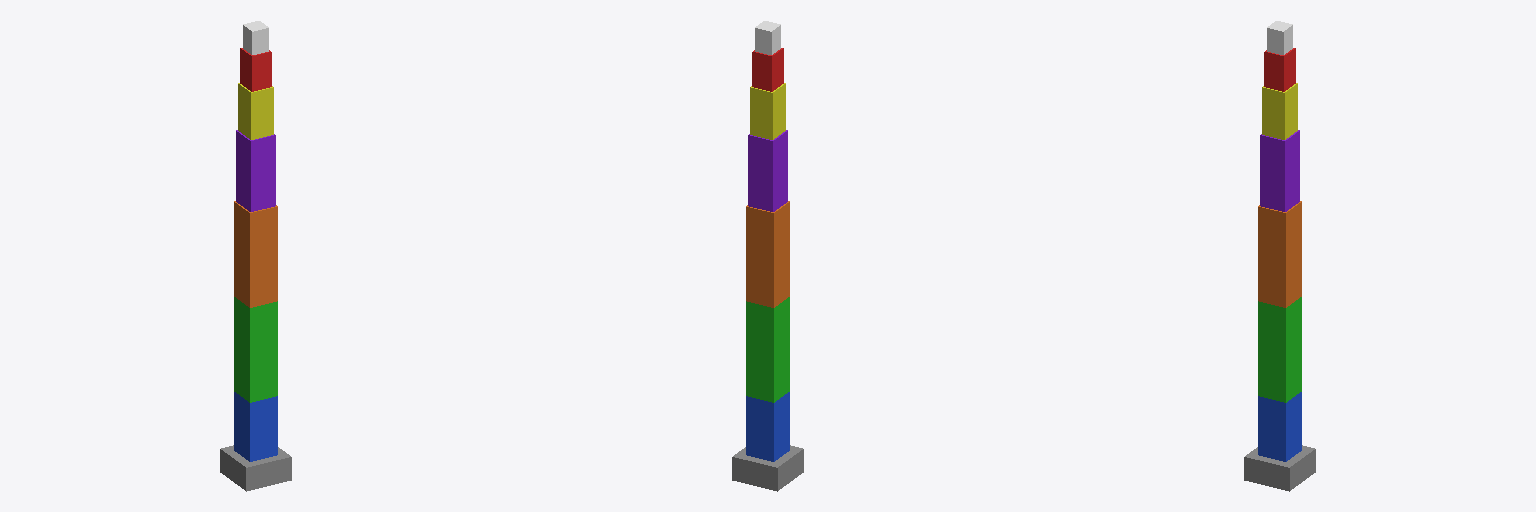
robot.urdf — piper_six_dof:
<?xml version="1.0"?>
<robot name="piper_six_dof">
  <!-- Minimal 6-DoF arm with simple box links for IK and collision -->
  <link name="base_link">
    <inertial><origin xyz="0 0 0" rpy="0 0 0"/><mass value="1"/><inertia ixx="1e-3" ixy="0" ixz="0" iyy="1e-3" iyz="0" izz="1e-3"/></inertial>
    <visual><origin xyz="0 0 0" rpy="0 0 0"/><geometry><box size="0.08 0.08 0.04"/></geometry><material name="gray"><color rgba="0.6 0.6 0.6 1"/></material></visual>
    <collision><origin xyz="0 0 0" rpy="0 0 0"/><geometry><box size="0.08 0.08 0.04"/></geometry></collision>
  </link>

  <link name="link1">
    <inertial><origin xyz="0 0 0.05" rpy="0 0 0"/><mass value="1"/><inertia ixx="1e-3" ixy="0" ixz="0" iyy="1e-3" iyz="0" izz="1e-3"/></inertial>
    <visual><origin xyz="0 0 0.05" rpy="0 0 0"/><geometry><box size="0.05 0.05 0.1"/></geometry><material name="blue"><color rgba="0.2 0.4 0.9 1"/></material></visual>
    <collision><origin xyz="0 0 0.05" rpy="0 0 0"/><geometry><box size="0.05 0.05 0.1"/></geometry></collision>
  </link>
  <joint name="joint1" type="revolute">
    <parent link="base_link"/>
    <child link="link1"/>
    <origin xyz="0 0 0.02" rpy="0 0 0"/>
    <axis xyz="0 0 1"/>
    <limit lower="-3.14" upper="3.14" effort="10" velocity="2.0"/>
  </joint>

  <link name="link2">
    <inertial><origin xyz="0 0 0.08" rpy="0 0 0"/><mass value="1"/><inertia ixx="1e-3" ixy="0" ixz="0" iyy="1e-3" iyz="0" izz="1e-3"/></inertial>
    <visual><origin xyz="0 0 0.08" rpy="0 0 0"/><geometry><box size="0.05 0.05 0.16"/></geometry><material name="green"><color rgba="0.2 0.8 0.2 1"/></material></visual>
    <collision><origin xyz="0 0 0.08" rpy="0 0 0"/><geometry><box size="0.05 0.05 0.16"/></geometry></collision>
  </link>
  <joint name="joint2" type="revolute">
    <parent link="link1"/>
    <child link="link2"/>
    <origin xyz="0 0 0.1" rpy="0 0 0"/>
    <axis xyz="0 1 0"/>
    <limit lower="-2.1" upper="2.1" effort="10" velocity="2.0"/>
  </joint>

  <link name="link3">
    <inertial><origin xyz="0 0 0.08" rpy="0 0 0"/><mass value="1"/><inertia ixx="1e-3" ixy="0" ixz="0" iyy="1e-3" iyz="0" izz="1e-3"/></inertial>
    <visual><origin xyz="0 0 0.08" rpy="0 0 0"/><geometry><box size="0.05 0.05 0.16"/></geometry><material name="orange"><color rgba="0.9 0.5 0.2 1"/></material></visual>
    <collision><origin xyz="0 0 0.08" rpy="0 0 0"/><geometry><box size="0.05 0.05 0.16"/></geometry></collision>
  </link>
  <joint name="joint3" type="revolute">
    <parent link="link2"/>
    <child link="link3"/>
    <origin xyz="0 0 0.16" rpy="0 0 0"/>
    <axis xyz="0 1 0"/>
    <limit lower="-2.8" upper="2.8" effort="10" velocity="2.0"/>
  </joint>

  <link name="link4">
    <inertial><origin xyz="0 0 0.06" rpy="0 0 0"/><mass value="0.6"/><inertia ixx="7e-4" ixy="0" ixz="0" iyy="7e-4" iyz="0" izz="7e-4"/></inertial>
    <visual><origin xyz="0 0 0.06" rpy="0 0 0"/><geometry><box size="0.045 0.045 0.12"/></geometry><material name="purple"><color rgba="0.6 0.2 0.9 1"/></material></visual>
    <collision><origin xyz="0 0 0.06" rpy="0 0 0"/><geometry><box size="0.045 0.045 0.12"/></geometry></collision>
  </link>
  <joint name="joint4" type="revolute">
    <parent link="link3"/>
    <child link="link4"/>
    <origin xyz="0 0 0.16" rpy="0 0 0"/>
    <axis xyz="1 0 0"/>
    <limit lower="-3.14" upper="3.14" effort="10" velocity="2.0"/>
  </joint>

  <link name="link5">
    <inertial><origin xyz="0 0 0.04" rpy="0 0 0"/><mass value="0.5"/><inertia ixx="5e-4" ixy="0" ixz="0" iyy="5e-4" iyz="0" izz="5e-4"/></inertial>
    <visual><origin xyz="0 0 0.04" rpy="0 0 0"/><geometry><box size="0.04 0.04 0.08"/></geometry><material name="yellow"><color rgba="0.9 0.9 0.2 1"/></material></visual>
    <collision><origin xyz="0 0 0.04" rpy="0 0 0"/><geometry><box size="0.04 0.04 0.08"/></geometry></collision>
  </link>
  <joint name="joint5" type="revolute">
    <parent link="link4"/>
    <child link="link5"/>
    <origin xyz="0 0 0.12" rpy="0 0 0"/>
    <axis xyz="0 1 0"/>
    <limit lower="-3.14" upper="3.14" effort="10" velocity="2.0"/>
  </joint>

  <link name="link6">
    <inertial><origin xyz="0 0 0.03" rpy="0 0 0"/><mass value="0.4"/><inertia ixx="4e-4" ixy="0" ixz="0" iyy="4e-4" iyz="0" izz="4e-4"/></inertial>
    <visual><origin xyz="0 0 0.03" rpy="0 0 0"/><geometry><box size="0.035 0.035 0.06"/></geometry><material name="red"><color rgba="0.9 0.2 0.2 1"/></material></visual>
    <collision><origin xyz="0 0 0.03" rpy="0 0 0"/><geometry><box size="0.035 0.035 0.06"/></geometry></collision>
  </link>
  <joint name="joint6" type="revolute">
    <parent link="link5"/>
    <child link="link6"/>
    <origin xyz="0 0 0.08" rpy="0 0 0"/>
    <axis xyz="0 0 1"/>
    <limit lower="-3.14" upper="3.14" effort="10" velocity="2.0"/>
  </joint>

  <link name="gripper_base">
    <inertial><origin xyz="0 0 0.02" rpy="0 0 0"/><mass value="0.2"/><inertia ixx="2e-4" ixy="0" ixz="0" iyy="2e-4" iyz="0" izz="2e-4"/></inertial>
    <visual><origin xyz="0 0 0.02" rpy="0 0 0"/><geometry><box size="0.03 0.03 0.04"/></geometry><material name="white"><color rgba="0.95 0.95 0.95 1"/></material></visual>
    <collision><origin xyz="0 0 0.02" rpy="0 0 0"/><geometry><box size="0.03 0.03 0.04"/></geometry></collision>
  </link>
  <joint name="ee_fixed" type="fixed">
    <parent link="link6"/>
    <child link="gripper_base"/>
    <origin xyz="0 0 0.06" rpy="0 0 0"/>
  </joint>
</robot>

--- What the picture shows (computed from the rendered views, not written in the file) ---
The picture shows the robot from 3 angles, left to right: view 1: azimuth 30°, elevation 25°; view 2: azimuth 150°, elevation 25°; view 3: azimuth 330°, elevation 25°; orthographic projection.
Model piper_six_dof with 8 links and 7 joints (6 revolute, 1 fixed), rooted at base_link, posed all joints at 0.
Links seen in each view (by area): view 1: link3, link2, link4, link1, base_link, link5, link6, gripper_base; view 2: link3, link2, link4, link1, base_link, link5, link6, gripper_base; view 3: link3, link2, link4, link1, base_link, link5, link6, gripper_base.
Boxes of the visible links, x1,y1,x2,y2 form: link3: [234, 201, 277, 307]; link2: [234, 297, 277, 402]; link4: [236, 130, 275, 211]; link1: [234, 392, 277, 461]; base_link: [220, 445, 291, 491]; link5: [238, 83, 273, 139]; link6: [240, 48, 271, 91]; gripper_base: [243, 21, 268, 54]; link3: [746, 201, 789, 307]; link2: [746, 297, 789, 402]; link4: [748, 130, 787, 211]; link1: [746, 392, 789, 461]; base_link: [732, 445, 803, 491]; link5: [750, 83, 785, 139]; link6: [752, 48, 783, 91]; gripper_base: [755, 21, 780, 54]; link3: [1258, 201, 1301, 307]; link2: [1258, 297, 1301, 402]; link4: [1260, 130, 1299, 211]; link1: [1258, 392, 1301, 461]; base_link: [1244, 445, 1315, 491]; link5: [1262, 83, 1297, 139]; link6: [1264, 48, 1295, 91]; gripper_base: [1267, 21, 1292, 54].
Size in the robot's own frame: 0.08 by 0.08 by 0.76 metres.
Geometry: primitives only (box / cylinder / sphere), no mesh files.
